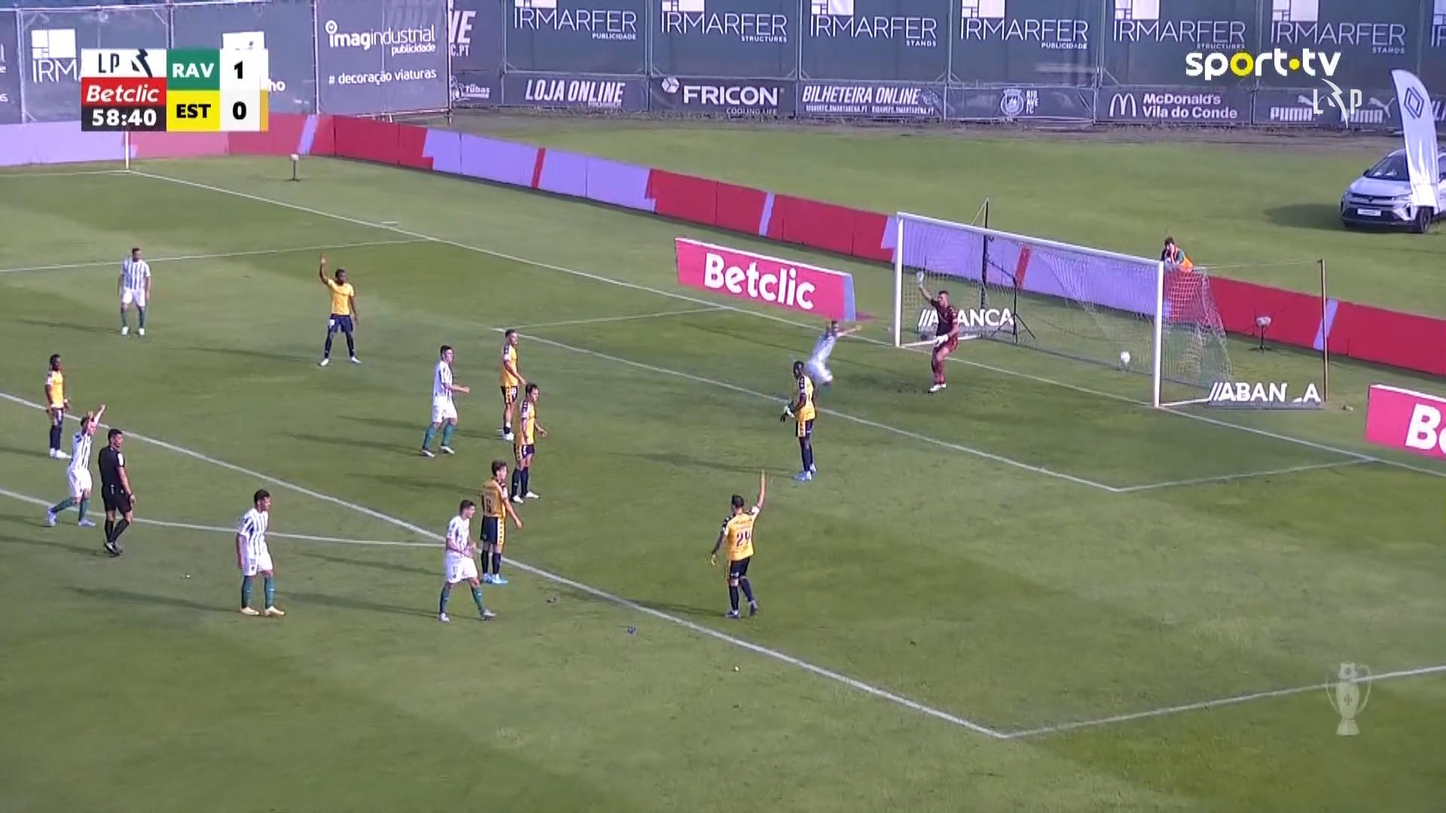ball: (1118, 350, 1130, 364)
goalkeeper: (914, 269, 959, 392)
player: (708, 469, 767, 619), (779, 317, 859, 423), (44, 402, 106, 527), (437, 498, 497, 622), (234, 488, 285, 617), (419, 343, 470, 457), (477, 459, 523, 584), (316, 253, 362, 367), (779, 360, 818, 481), (508, 382, 547, 503), (498, 328, 526, 442), (116, 246, 151, 336), (43, 353, 72, 458), (803, 318, 843, 390)
referee: (96, 427, 136, 556)
